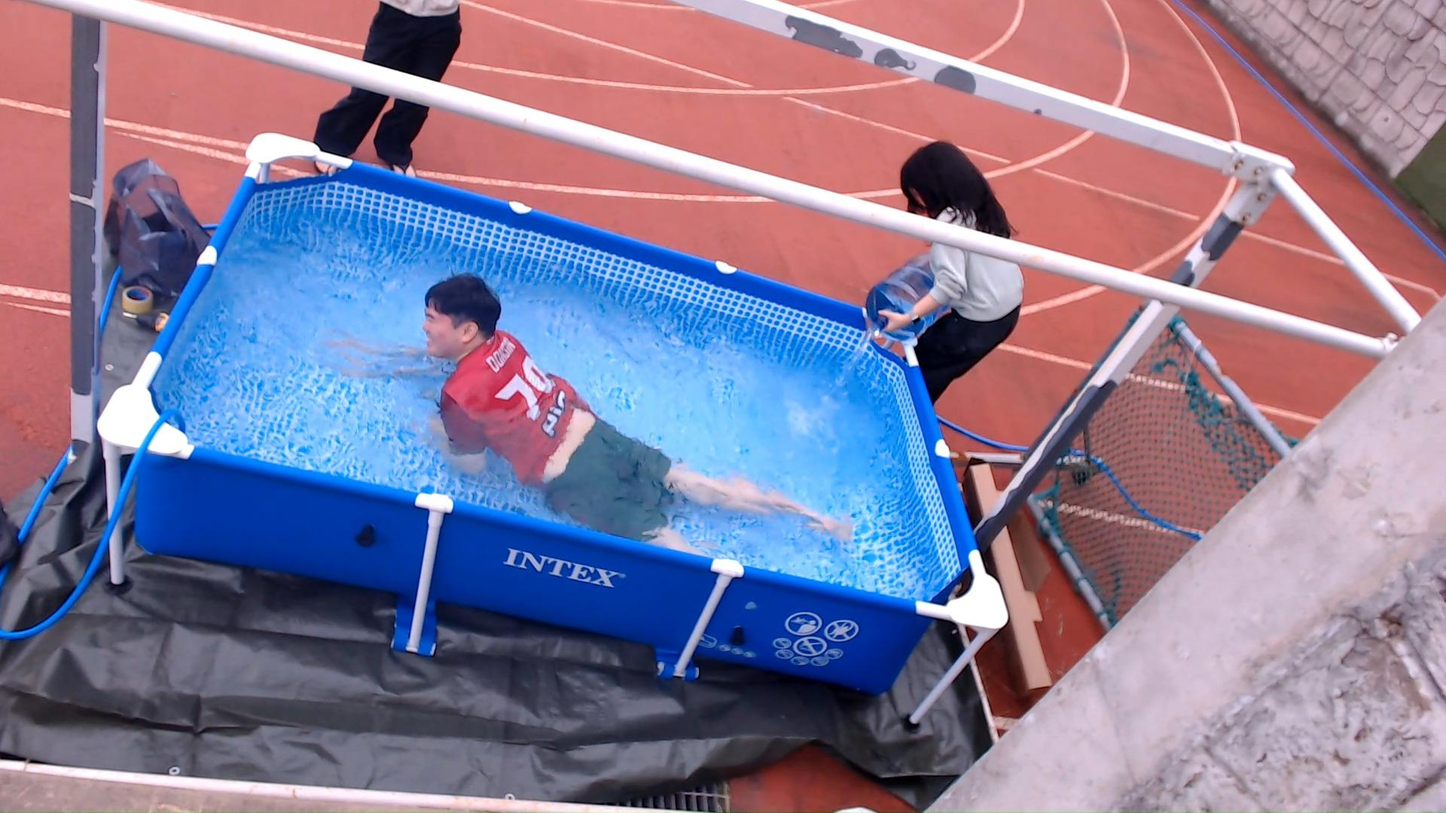Swimming: (318, 240, 836, 593)
